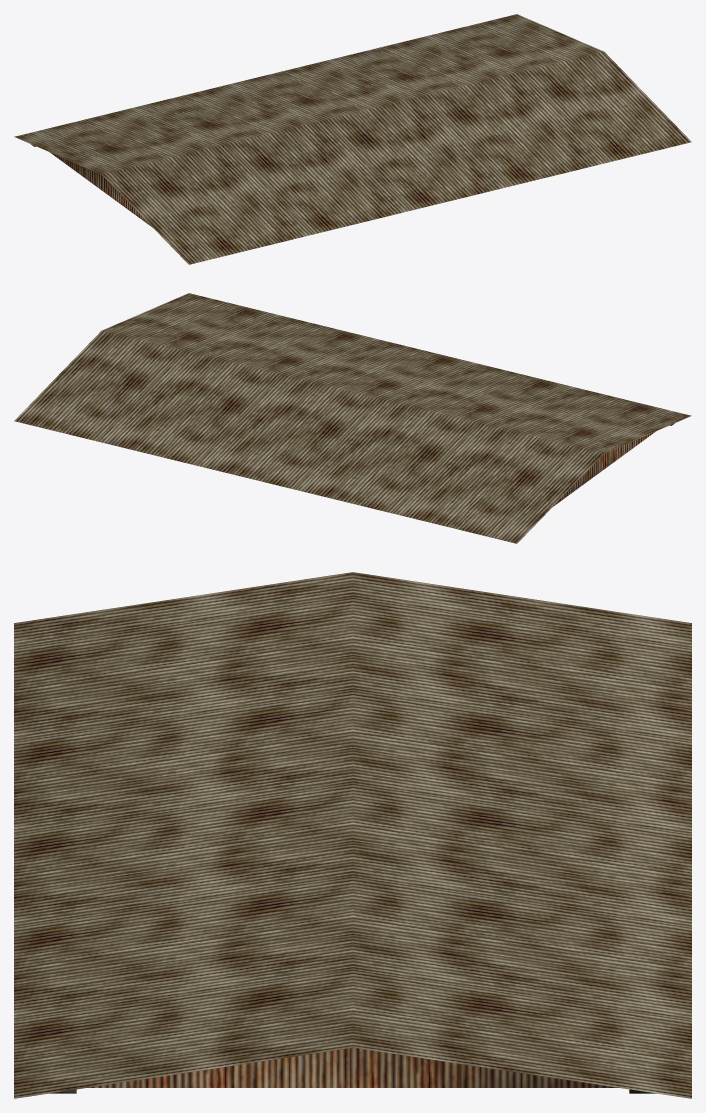
The model's file is lagerhausroof.obj.
The picture shows the model from 3 angles, top to bottom: view 1: azimuth 30°, elevation 25°; view 2: azimuth 150°, elevation 25°; view 3: azimuth 270°, elevation 25°; orthographic projection. The views are drawn at different scales.
Visible parts, largest first — view 1: PRLD07B.010, PRLD07B.001; view 2: PRLD07B.010, PRLD07B.001; view 3: PRLD07B.010, PRLD07B.001.
Part boxes in pixels (<box>): PRLD07B.010: <box>14,14,691,264</box>; PRLD07B.001: <box>31,144,152,227</box>; PRLD07B.010: <box>14,293,691,543</box>; PRLD07B.001: <box>553,423,674,506</box>; PRLD07B.010: <box>14,572,691,1098</box>; PRLD07B.001: <box>50,1048,655,1093</box>.
Size of the model in its own units: 684 by 34.25 by 412.
